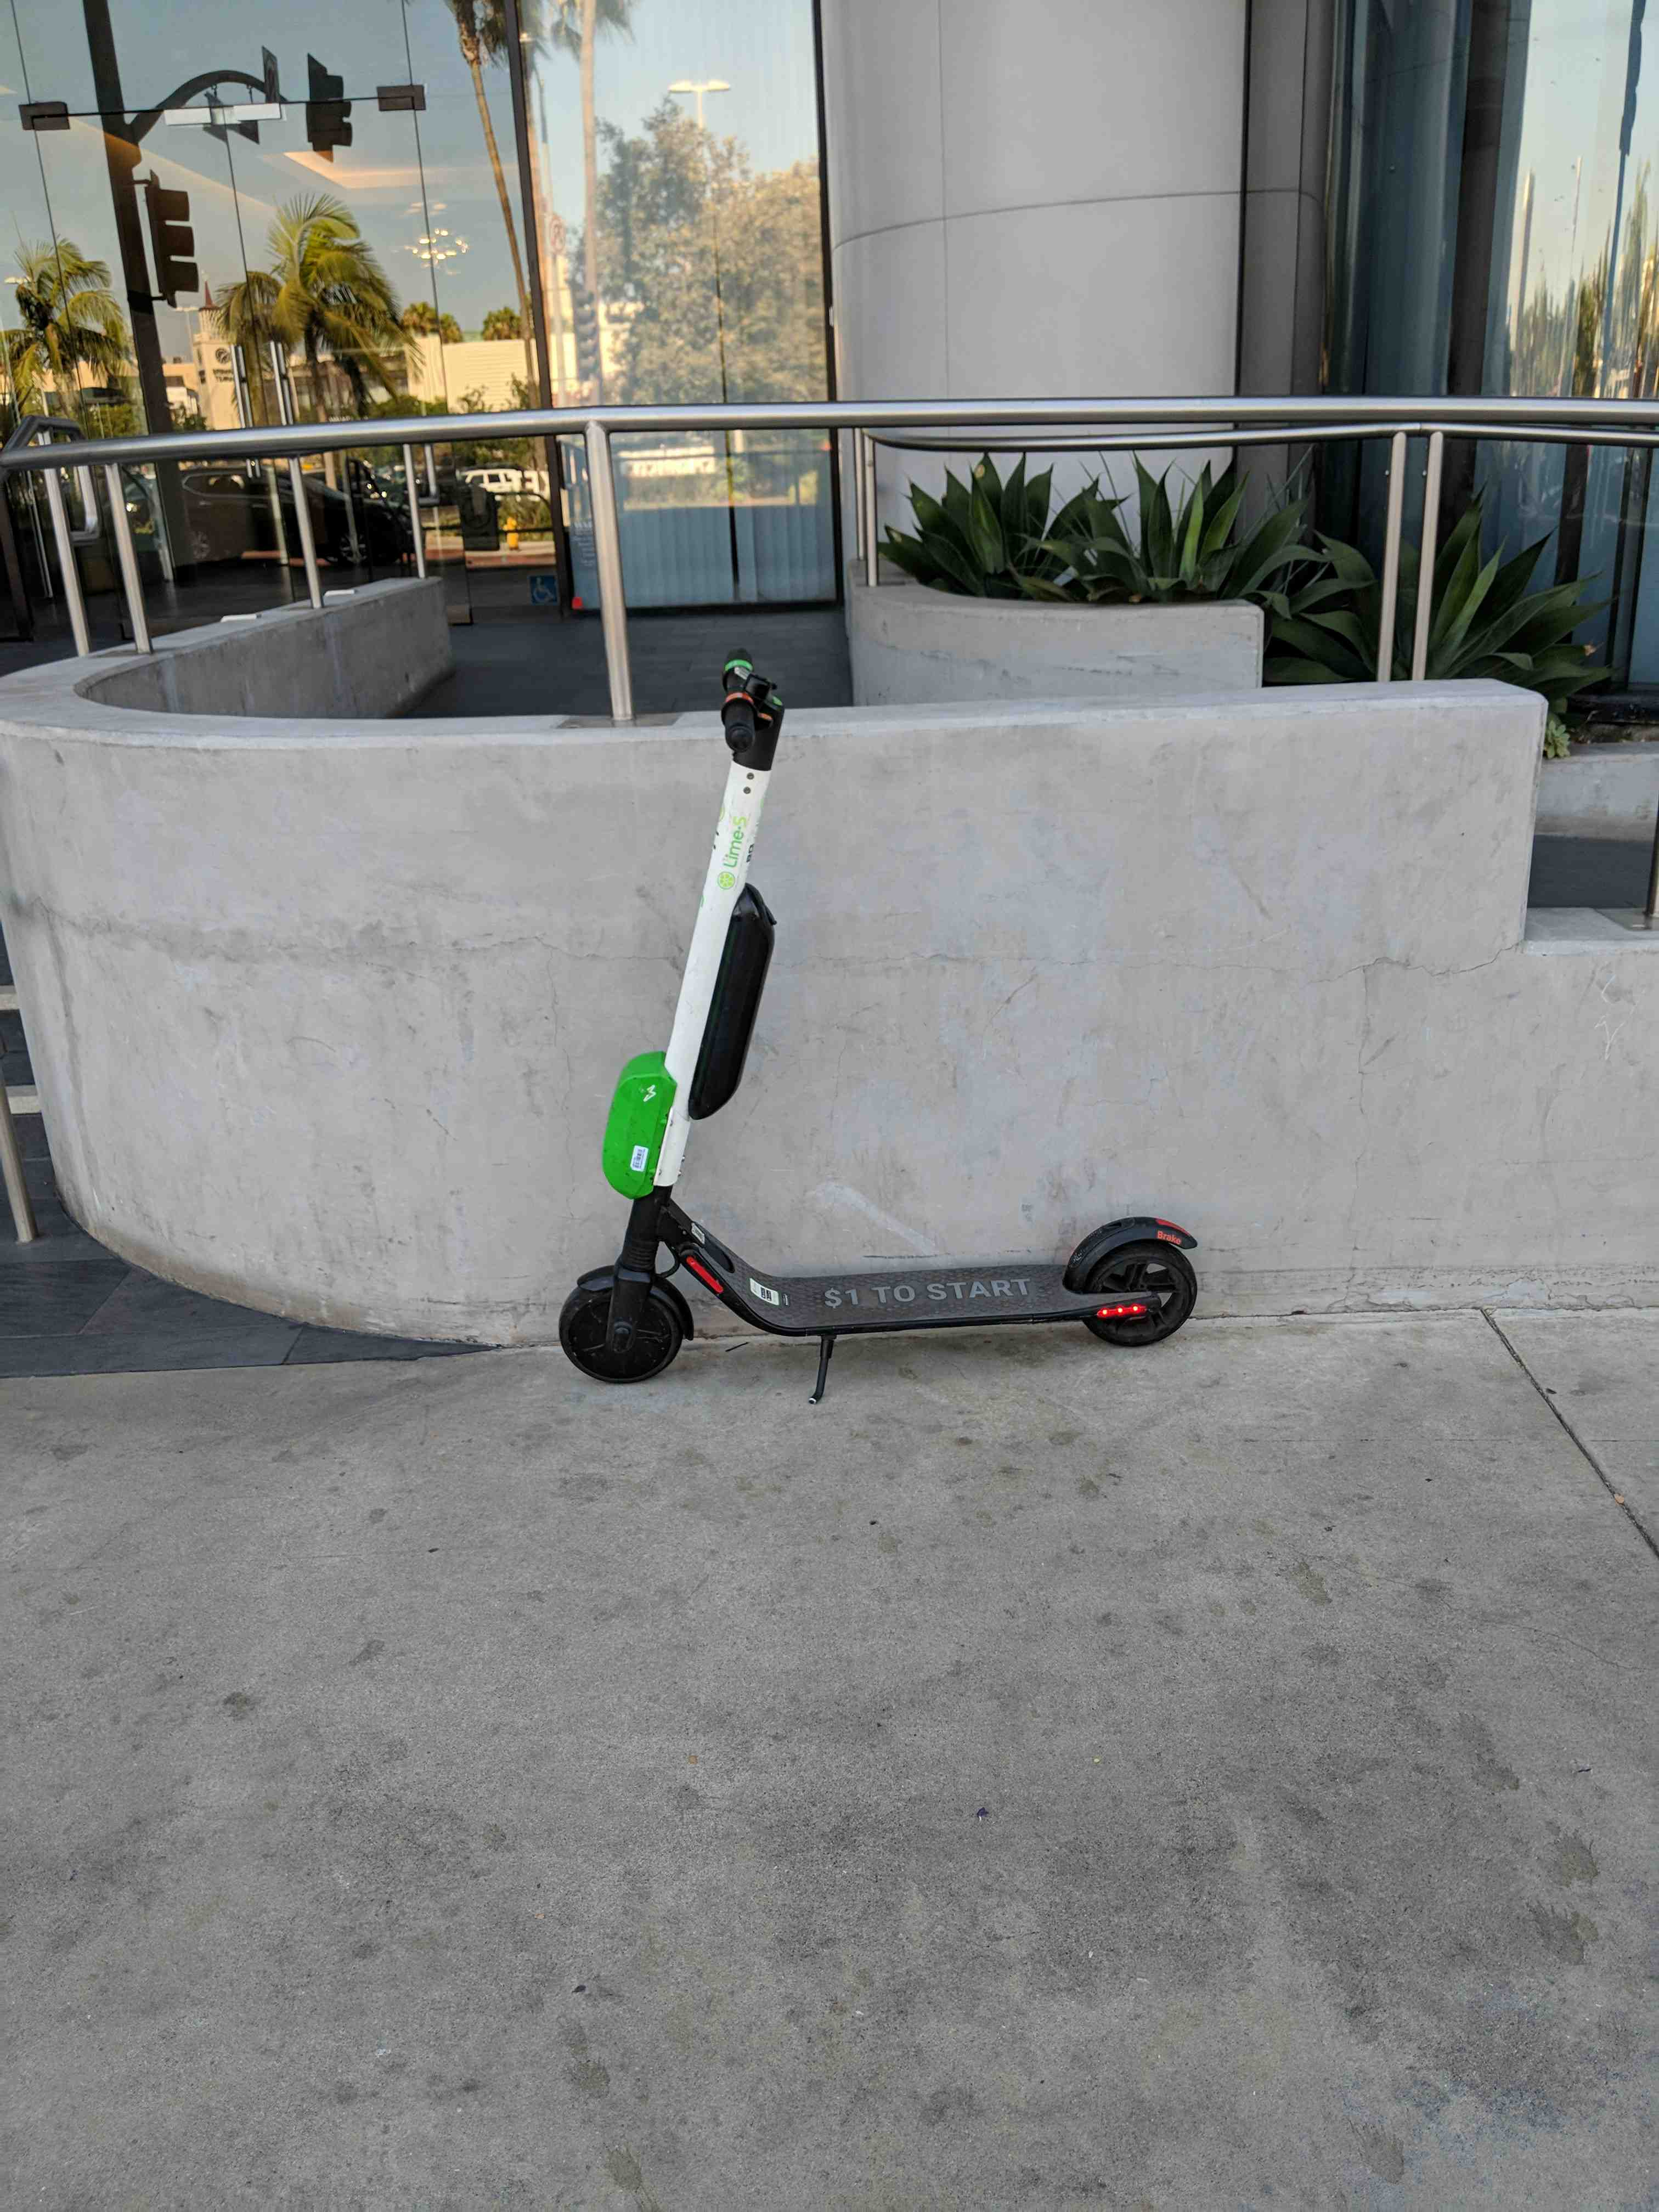scooter: (514, 625, 1237, 1406)
